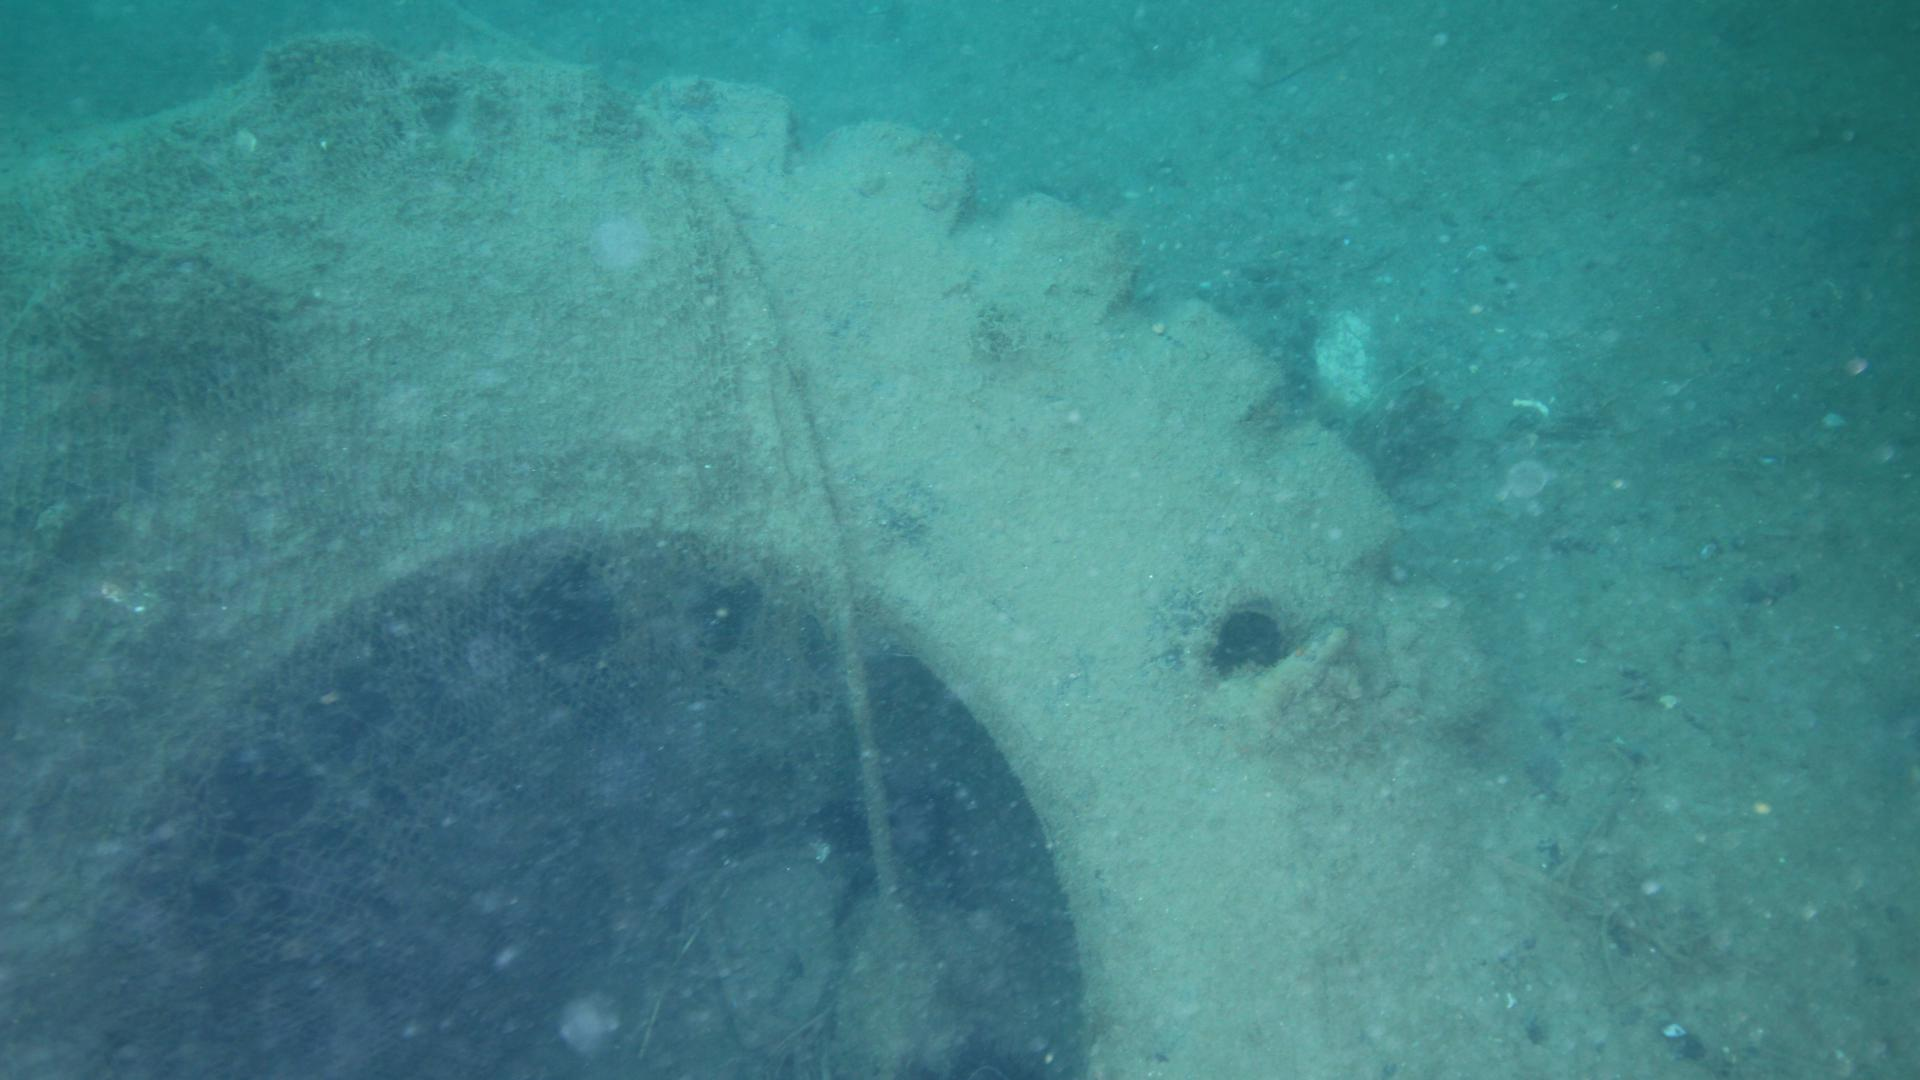tire: (3, 32, 1630, 1080)
